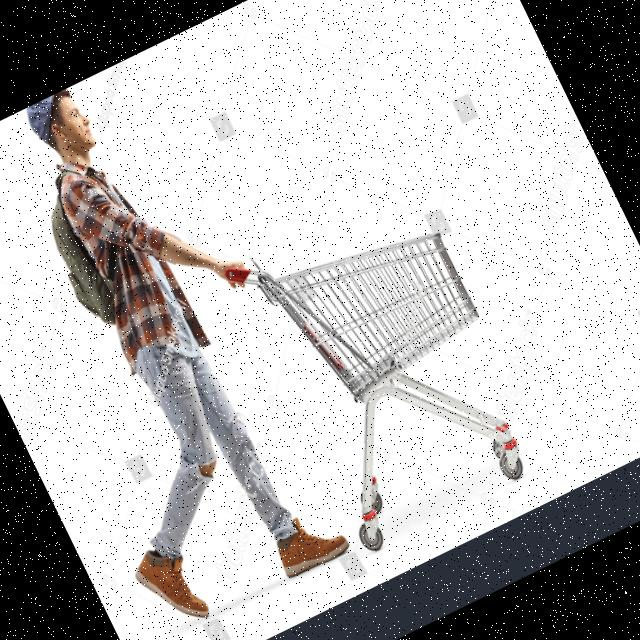Person: (0, 52, 376, 640)
